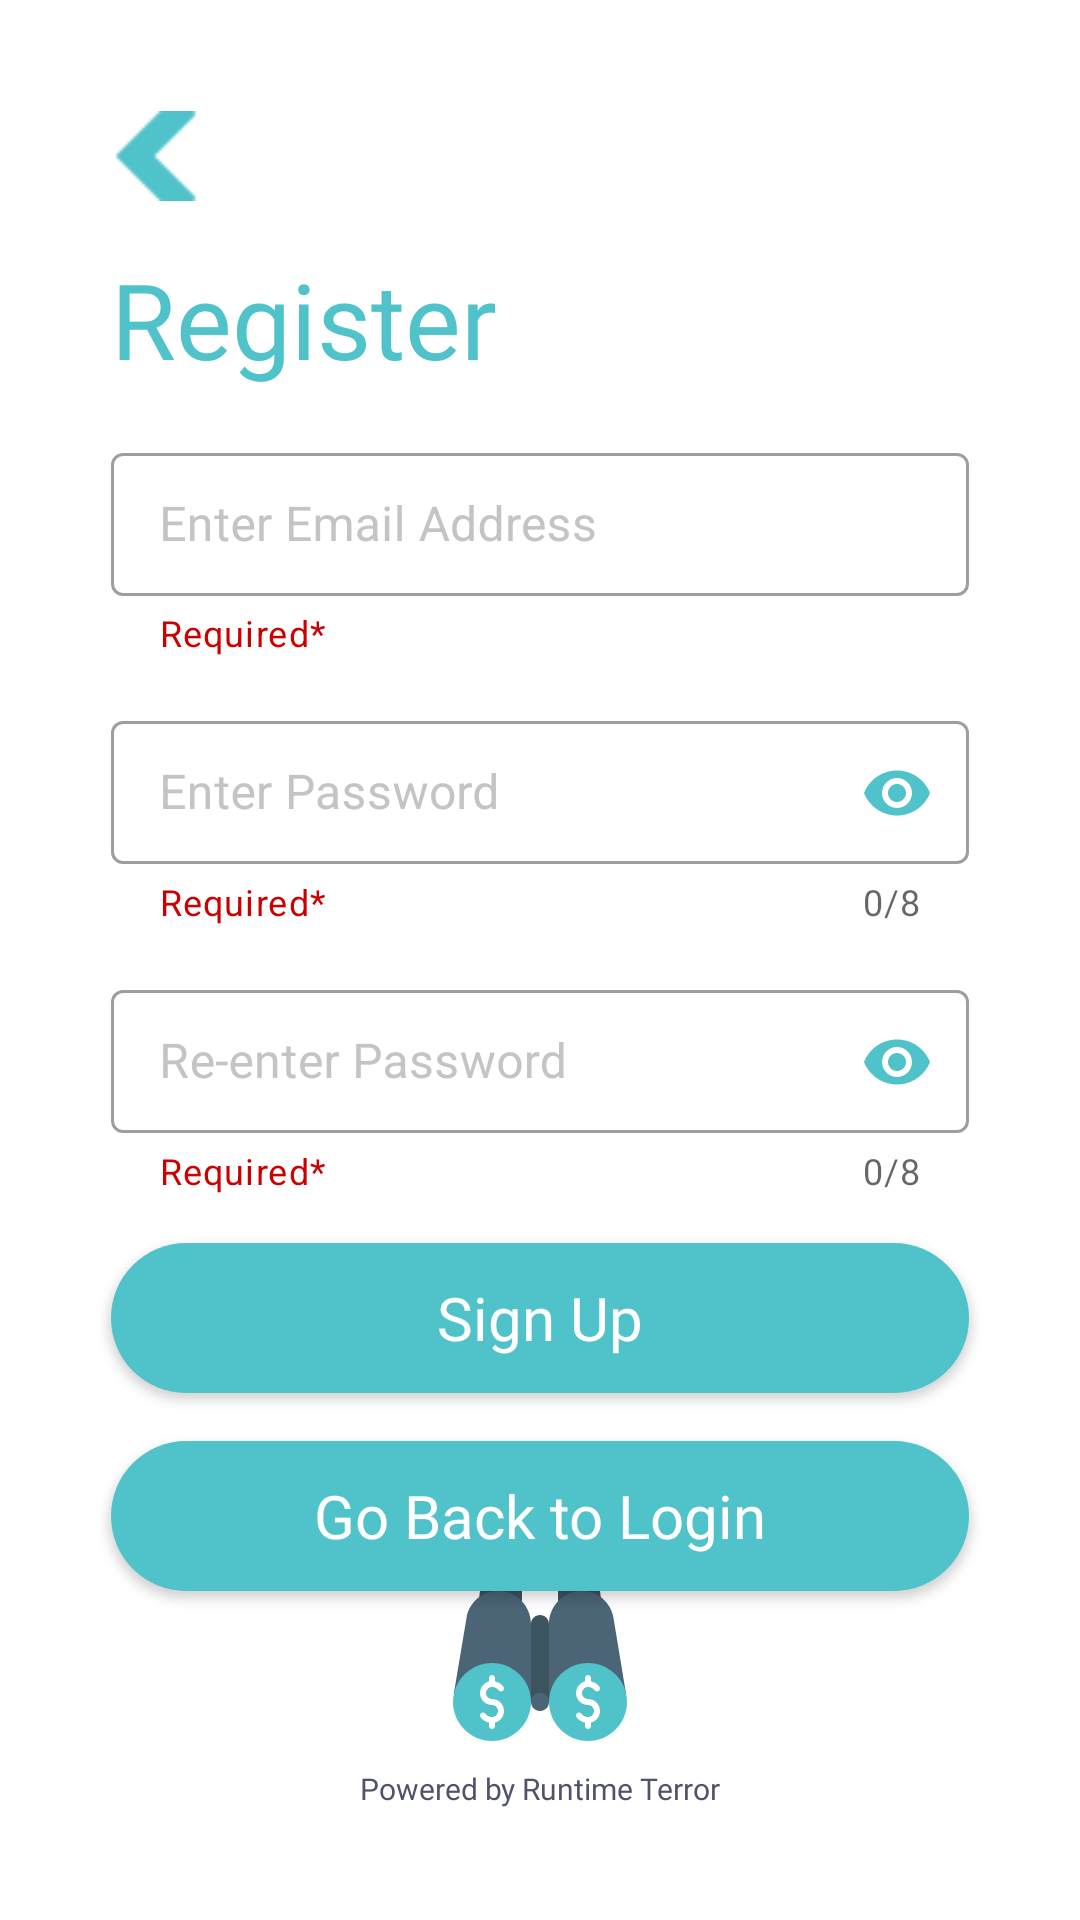

Where to tap for icons on this 1080 x 1920 app screen, as [x,y]:
Back: [156,156]
